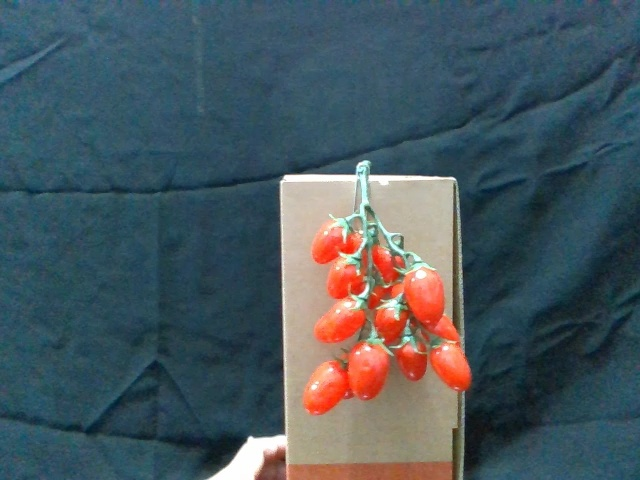tomato: (302, 355, 352, 414), (350, 336, 390, 405), (403, 260, 444, 325), (316, 298, 367, 346), (429, 337, 471, 390), (375, 294, 412, 347), (326, 254, 369, 297), (312, 220, 354, 264), (400, 330, 431, 381)
